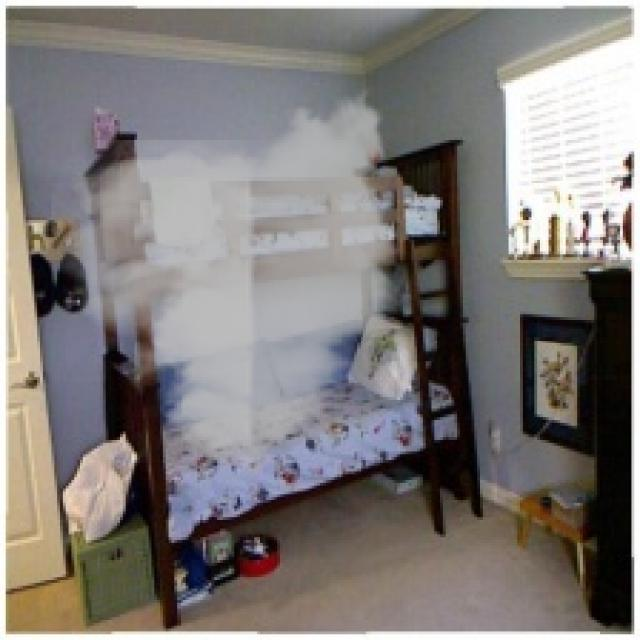smoke: (51, 77, 408, 486)
